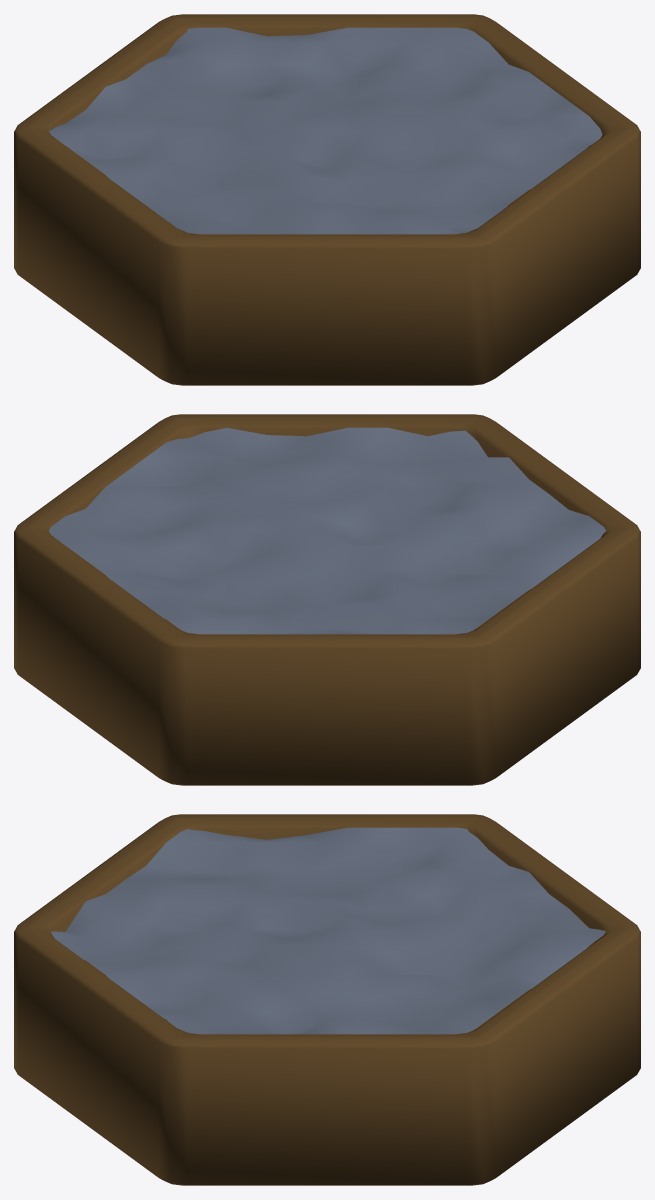
The model's file is waterhex.fbx.
The picture shows the model from 3 angles, top to bottom: view 1: azimuth 30°, elevation 25°; view 2: azimuth 150°, elevation 25°; view 3: azimuth 270°, elevation 25°; orthographic projection.
Parts seen in each view (by area): view 1: Cylinder.006, Cylinder.007; view 2: Cylinder.006, Cylinder.007; view 3: Cylinder.006, Cylinder.007.
Part boxes in pixels (x1,y1,x2,y2): Cylinder.006: [14, 14, 640, 385]; Cylinder.007: [49, 27, 602, 234]; Cylinder.006: [14, 414, 640, 785]; Cylinder.007: [49, 427, 605, 634]; Cylinder.006: [14, 814, 640, 1185]; Cylinder.007: [51, 827, 605, 1034].
Bounding box in the file's own units: 173 × 50 × 197.
